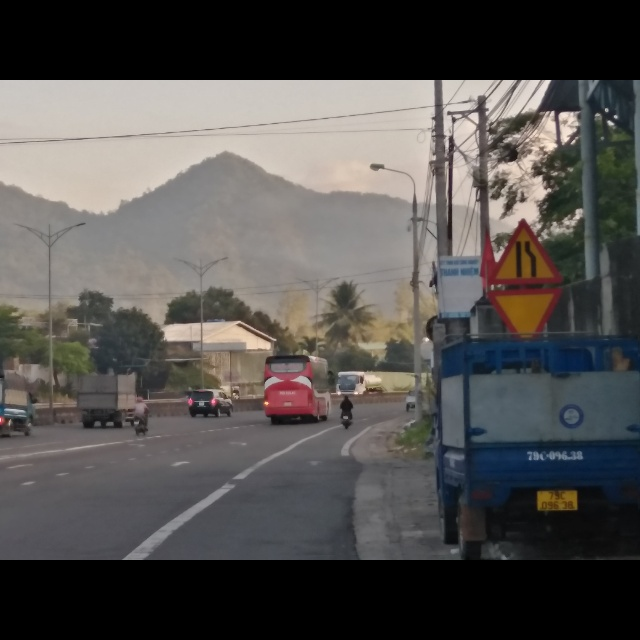Giao nhau với đường ưu tiên: (483, 287, 558, 337)
Đường bị hẹp bên phải: (485, 218, 560, 287)
